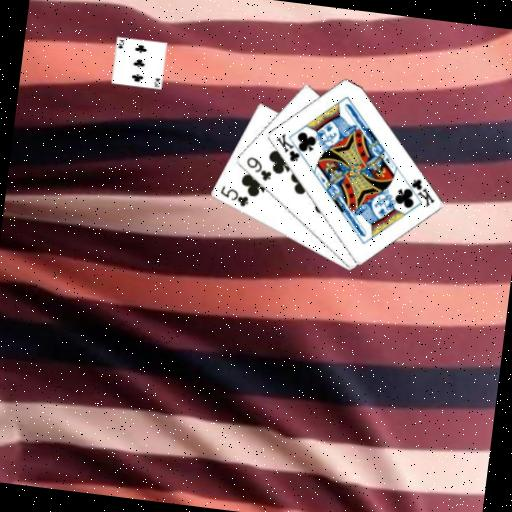5C: (215, 183, 251, 210)
9C: (241, 153, 275, 184)
KC: (271, 129, 310, 165), (399, 174, 438, 210)
